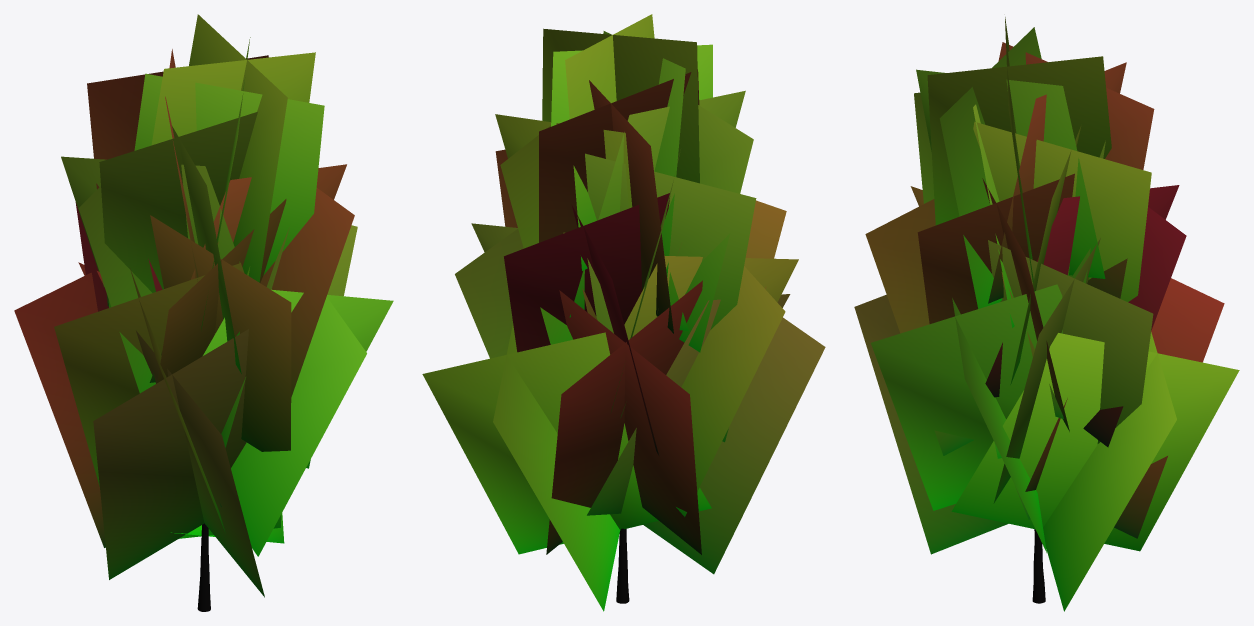
Rendered from Bush_6_4.fbx.
3 renders of one model, left to right at view 1: azimuth 30°, elevation 25°; view 2: azimuth 150°, elevation 25°; view 3: azimuth 270°, elevation 25°, orthographic.
Parts seen in each view (by area): view 1: _14; view 2: _14; view 3: _14.
Part boxes in pixels (x1=…): _14: x1=14, y1=14, x2=393, y2=611; _14: x1=422, y1=14, x2=825, y2=611; _14: x1=854, y1=17, x2=1239, y2=611.
Size of the model in its own units: 340 by 590 by 369.
